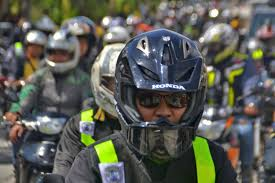helmet: (110, 29, 207, 167)
